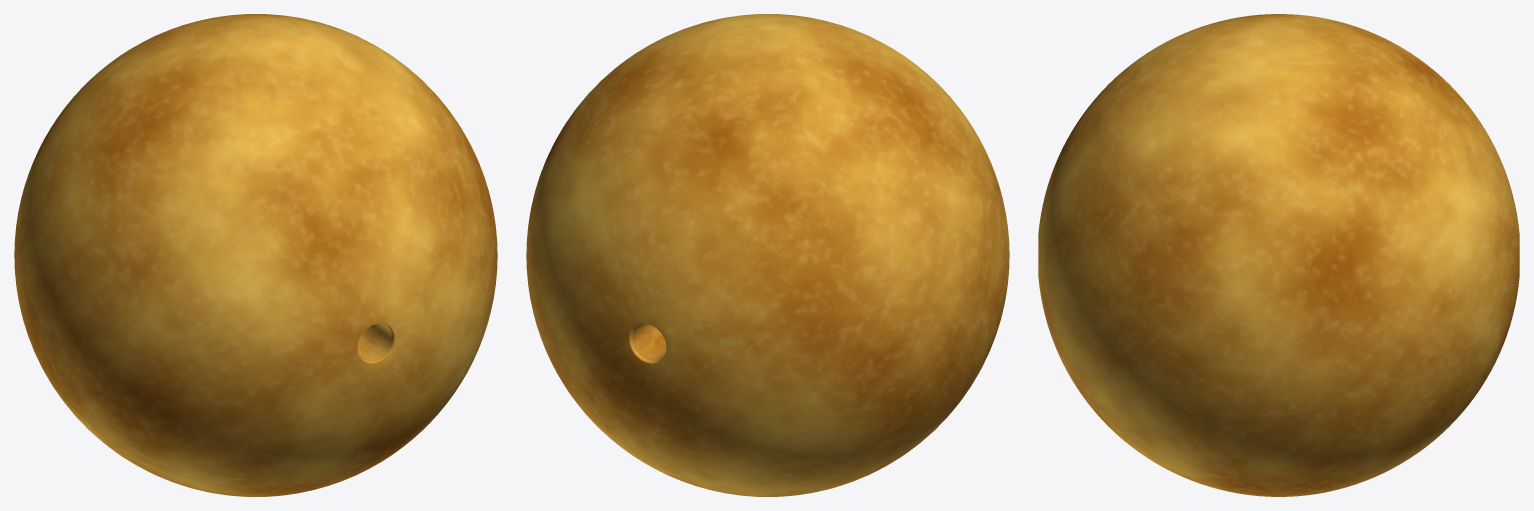
File: yellow-aventurine-12mm.glb
3 renders of one model, left to right at view 1: azimuth 30°, elevation 25°; view 2: azimuth 150°, elevation 25°; view 3: azimuth 270°, elevation 25°, orthographic.
Parts seen in each view (by area): view 1: yellow-aventurine.001; view 2: yellow-aventurine.001; view 3: yellow-aventurine.001.
Boxes of the visible parts, x1=… form: yellow-aventurine.001: x1=14, y1=14, x2=497, y2=496; yellow-aventurine.001: x1=526, y1=14, x2=1009, y2=496; yellow-aventurine.001: x1=1038, y1=14, x2=1519, y2=496.
Size of the model in its own units: 0.012 by 0.012 by 0.012.
2 materials, 1 textured.
